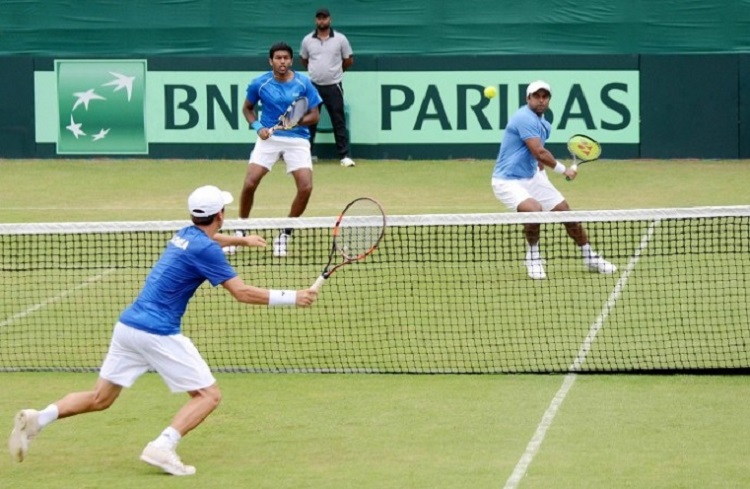tennis ball: (480, 84, 500, 101)
tennis player: (8, 184, 313, 489), (491, 82, 617, 279), (237, 44, 322, 221)
